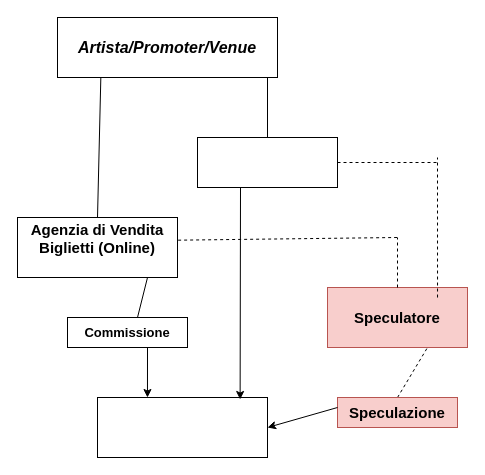
This 485x475 diagram has some shape labels left out. The shapes that lost their labels are listed below. From the top down, each one's centre as x and y in pixels, then its label:
At pixel 267 162: "Box Office (Fisico)".
At pixel 182 427: "Consumatore".
